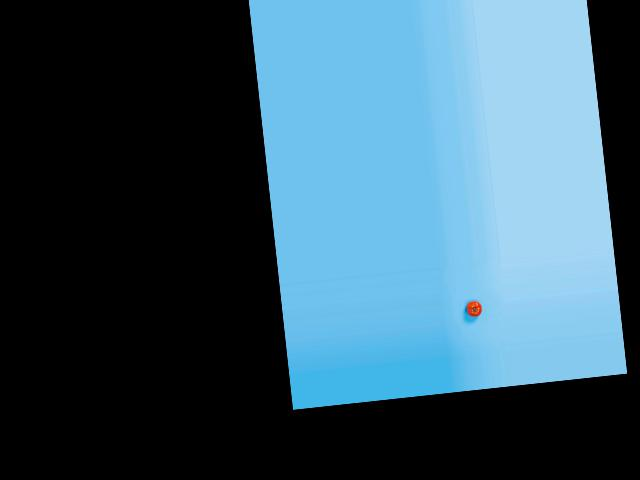tomato: (465, 300, 482, 318)
